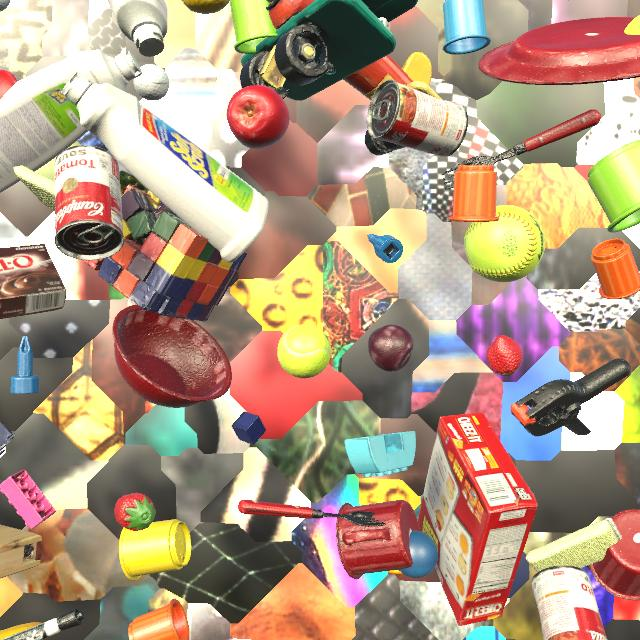ycb_003_cracker_box: (418, 412, 538, 626)
ycb_005_tomato_soup_can: (54, 145, 124, 261), (367, 79, 468, 157), (531, 565, 607, 640)
ycb_008_pudding_box: (0, 244, 66, 319)
ycb_011_banana: (0, 622, 41, 640)
ycb_012_strawberry: (114, 493, 156, 531), (486, 335, 523, 376)
ycb_013_apple: (227, 85, 290, 149), (0, 70, 18, 99)
ycb_014_lemon: (182, 0, 230, 14)
ycb_018_plum: (368, 324, 414, 372)
